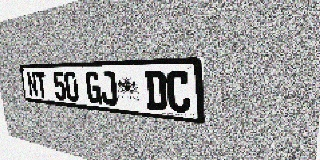0: (64, 71, 79, 102)
5: (52, 72, 67, 101)
C: (166, 70, 191, 114)
D: (144, 71, 167, 111)
G: (85, 71, 102, 104)
J: (99, 71, 118, 106)
N: (26, 72, 39, 98)
T: (35, 72, 48, 99)
